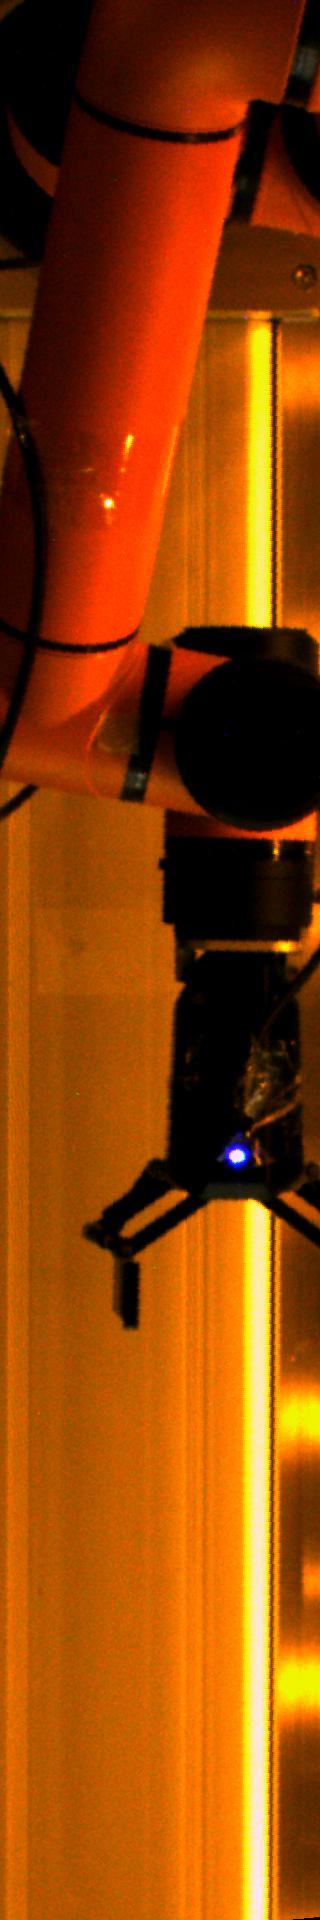keyPoint_1: (222, 1138, 253, 1168)
